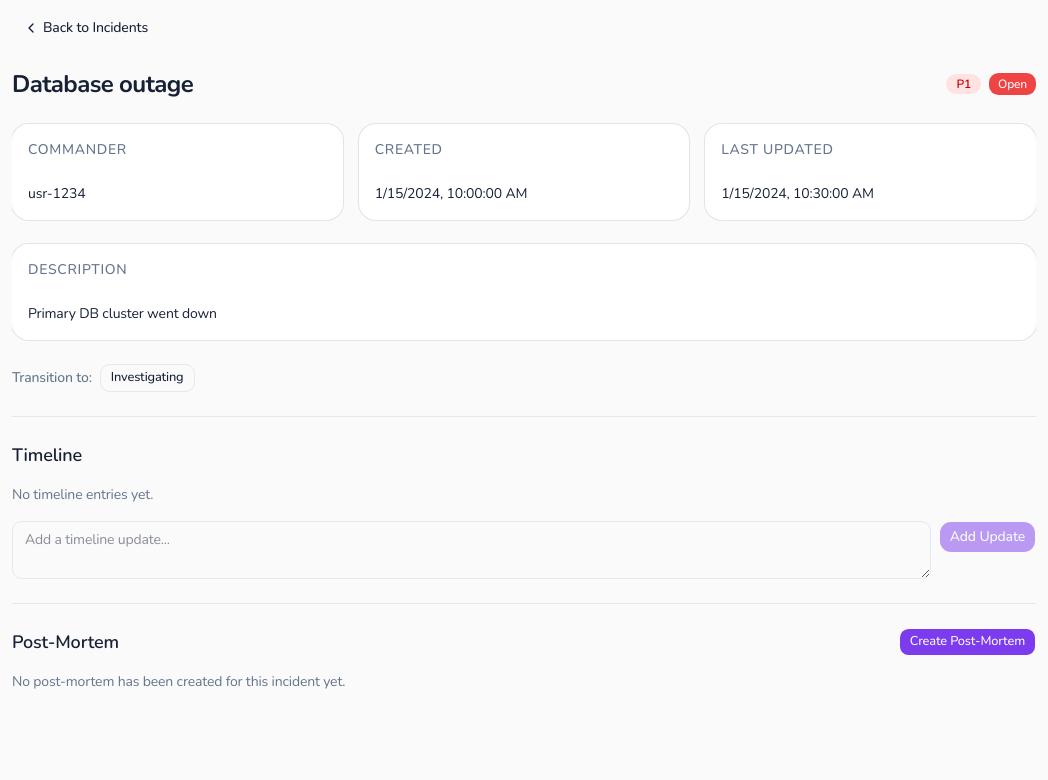
Test case: IncidentDetailClient › Timeline › Add Update form submits and appends entry
This screenshot has width=1048, height=780.
expect the heading "Database outage" is shown: met, box [12,68,193,100]
Step 1. Type "Added a manual update" into the text box with placeholder "Add a timeline update..." → (471, 550), box [12,521,931,579]
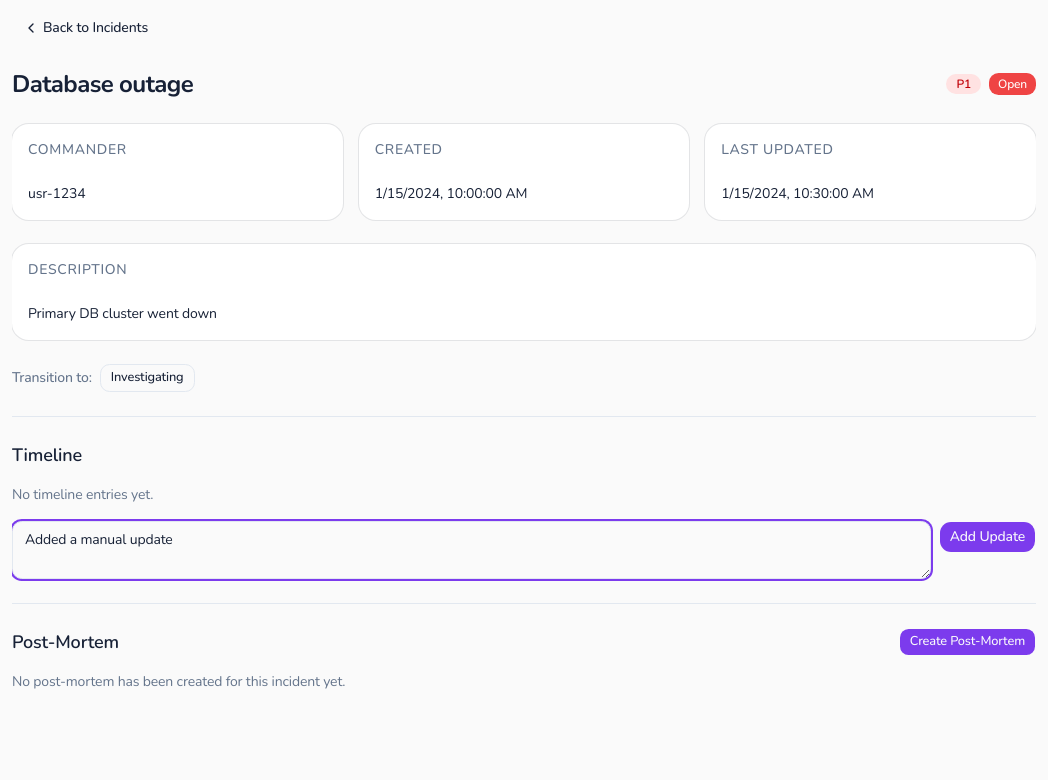
Step 2. Click the button "Add Update" → (987, 537), box [939,521,1036,553]
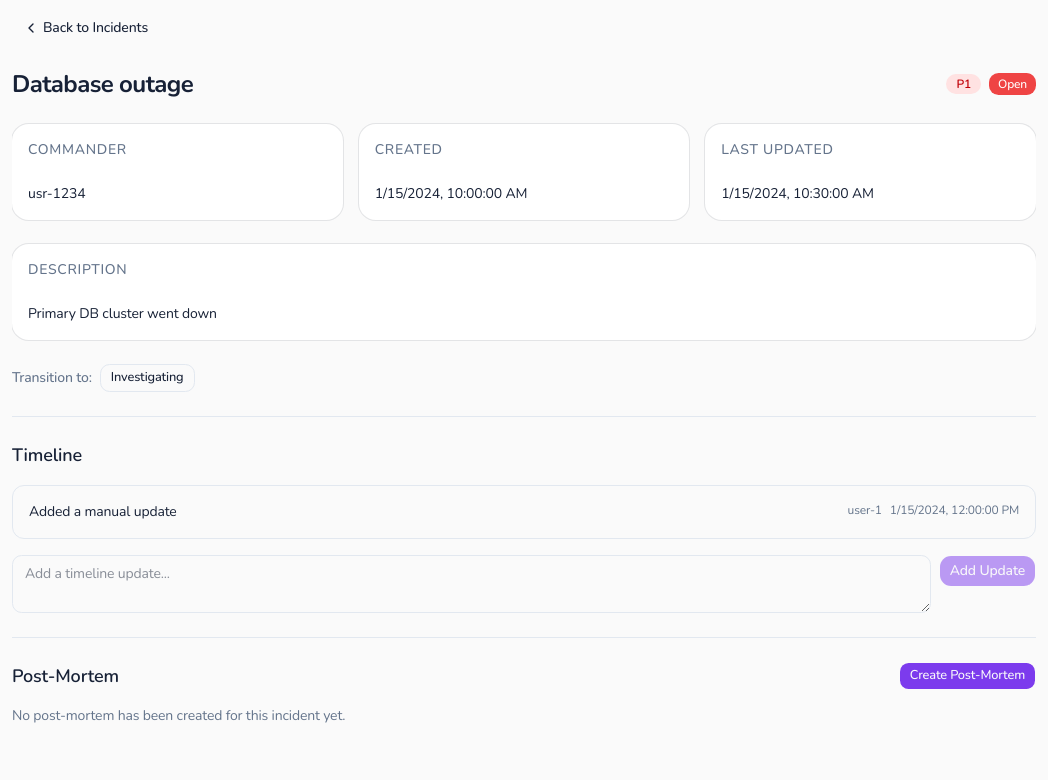
expect the text "Added a manual update" is shown: met, box [29,502,177,521]
